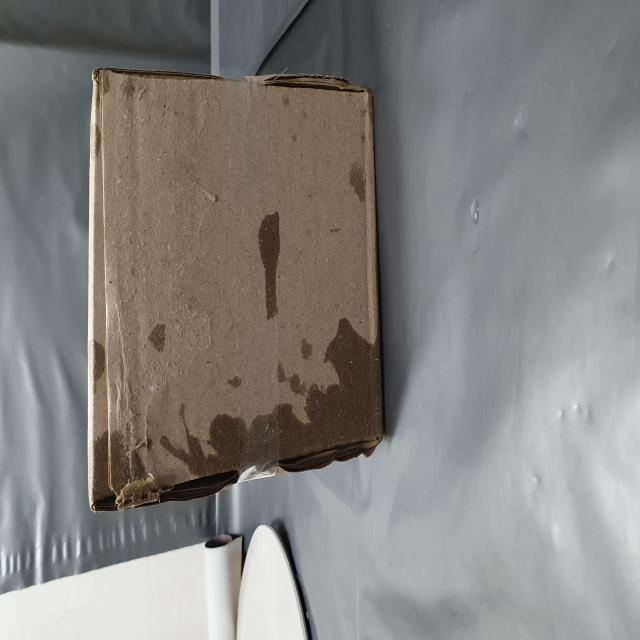wet: (63, 151, 188, 640)
